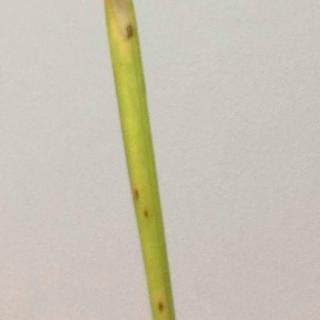bercak-Cokelat: (120, 16, 135, 44), (154, 288, 168, 318), (130, 182, 141, 202), (142, 208, 152, 228)
